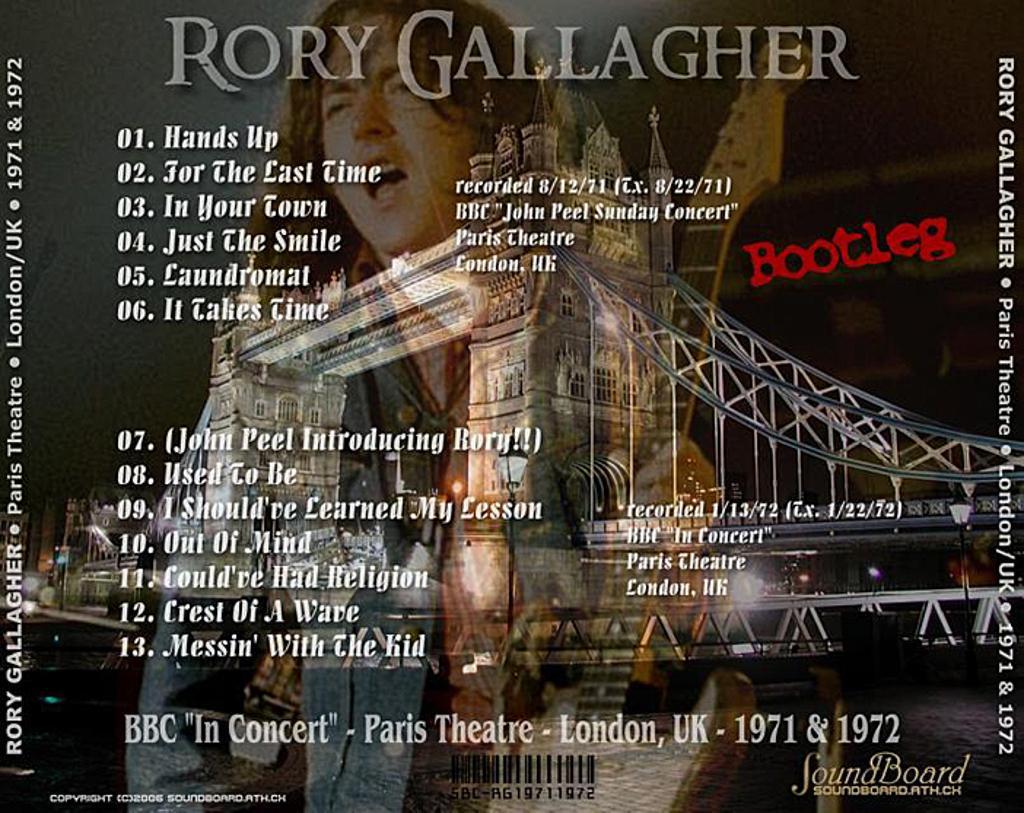face: (315, 13, 477, 245)
